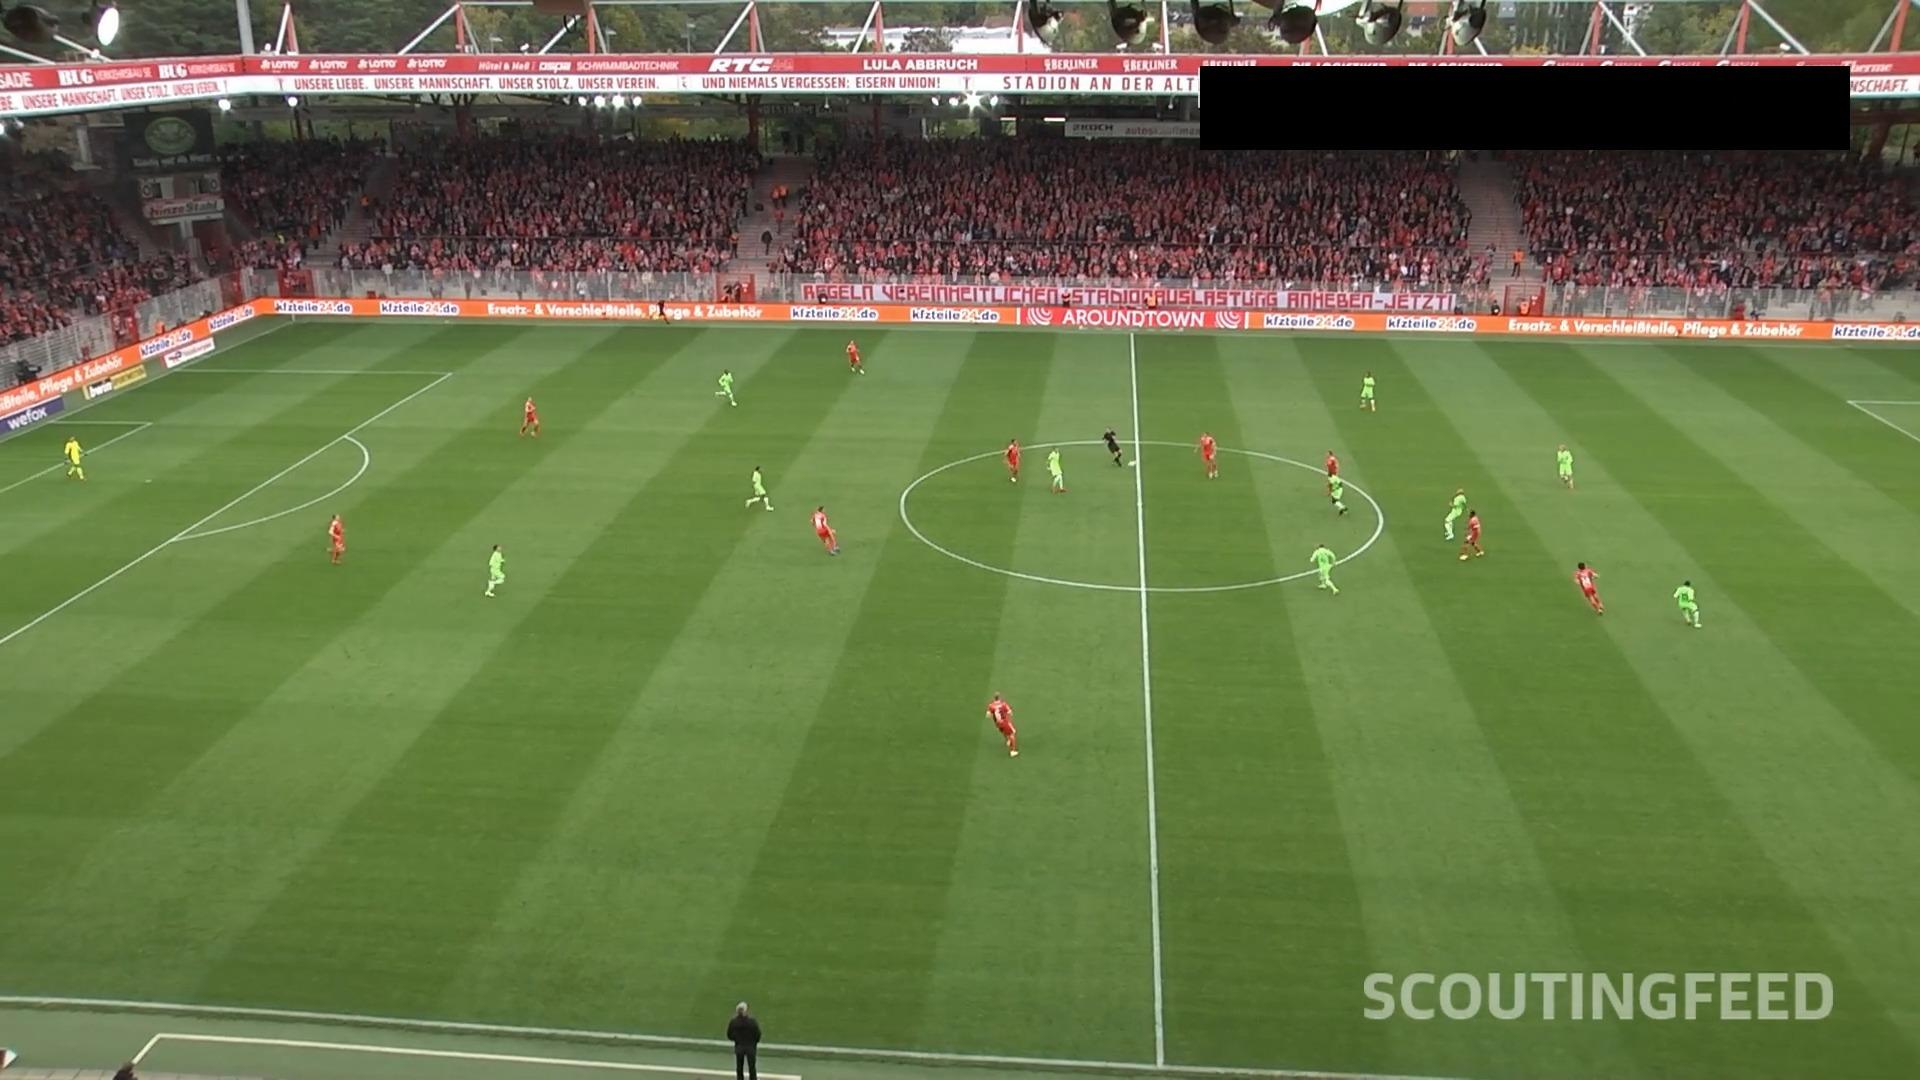ball: (1127, 459, 1138, 467)
